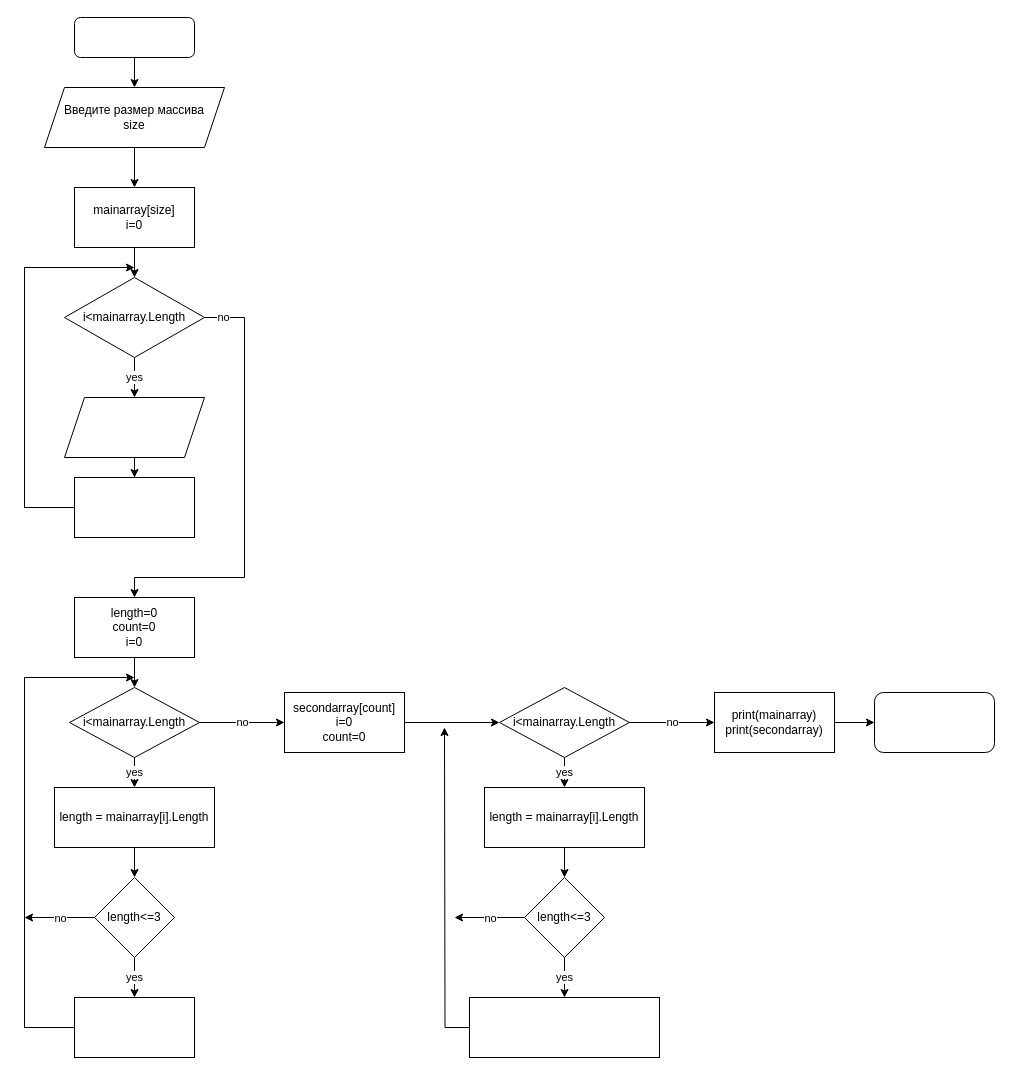
The diagram is 1012 pixels wide and 1075 high, and some of its shapes have lost their labels. Here are the shapes that lost their labels. From the top down, the box of each, then its label:
(74, 16, 194, 58): start
(64, 396, 204, 458): введите i+1 строку mainarray[i]
(74, 476, 194, 538): i++
(874, 692, 994, 752): finish
(74, 996, 194, 1058): count++
(468, 996, 660, 1058): secondarray[count] = mainarray[i] count++
